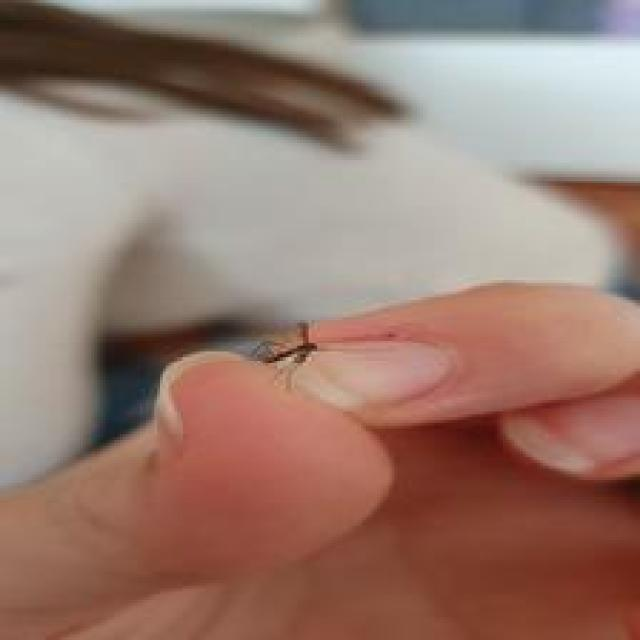Aedes albopictus: (250, 319, 319, 390)
